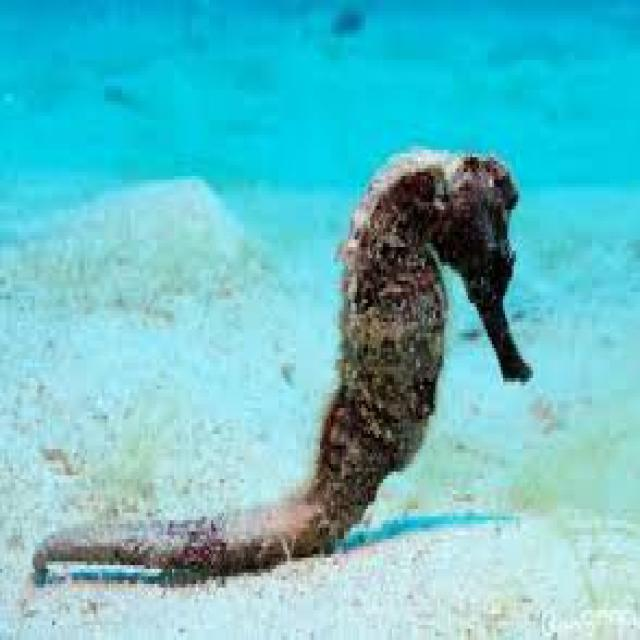seahorse: (35, 150, 529, 580)
